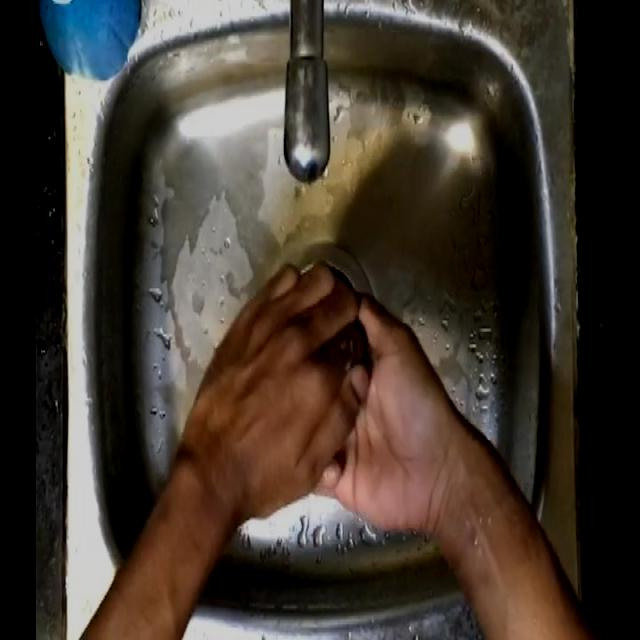step_4: (205, 275, 454, 520)
